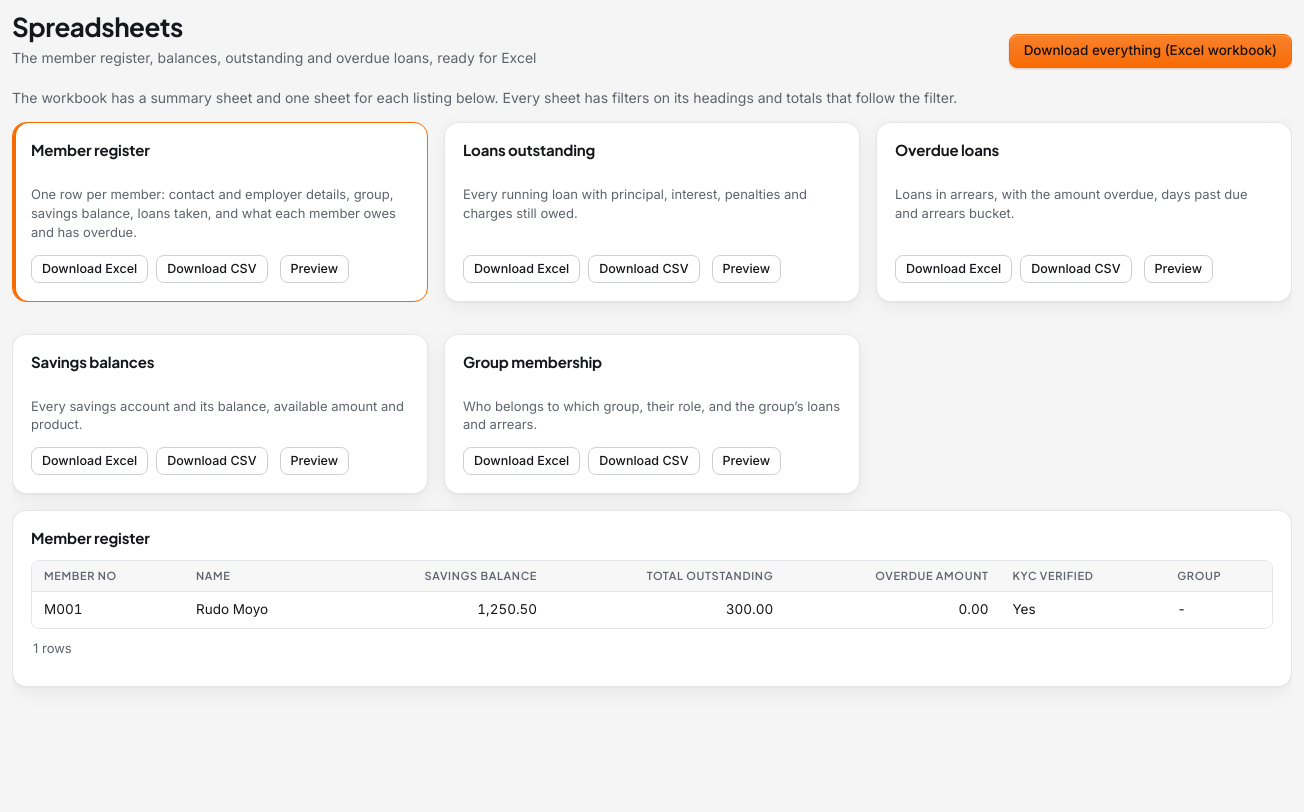
Test: Spreadsheets › says why a download failed instead of failing silently
The image size is (1304, 812).
Click the button "Download everything (Excel workbook)". click: coordinates (1150, 51)
box: [1009, 34, 1292, 68]
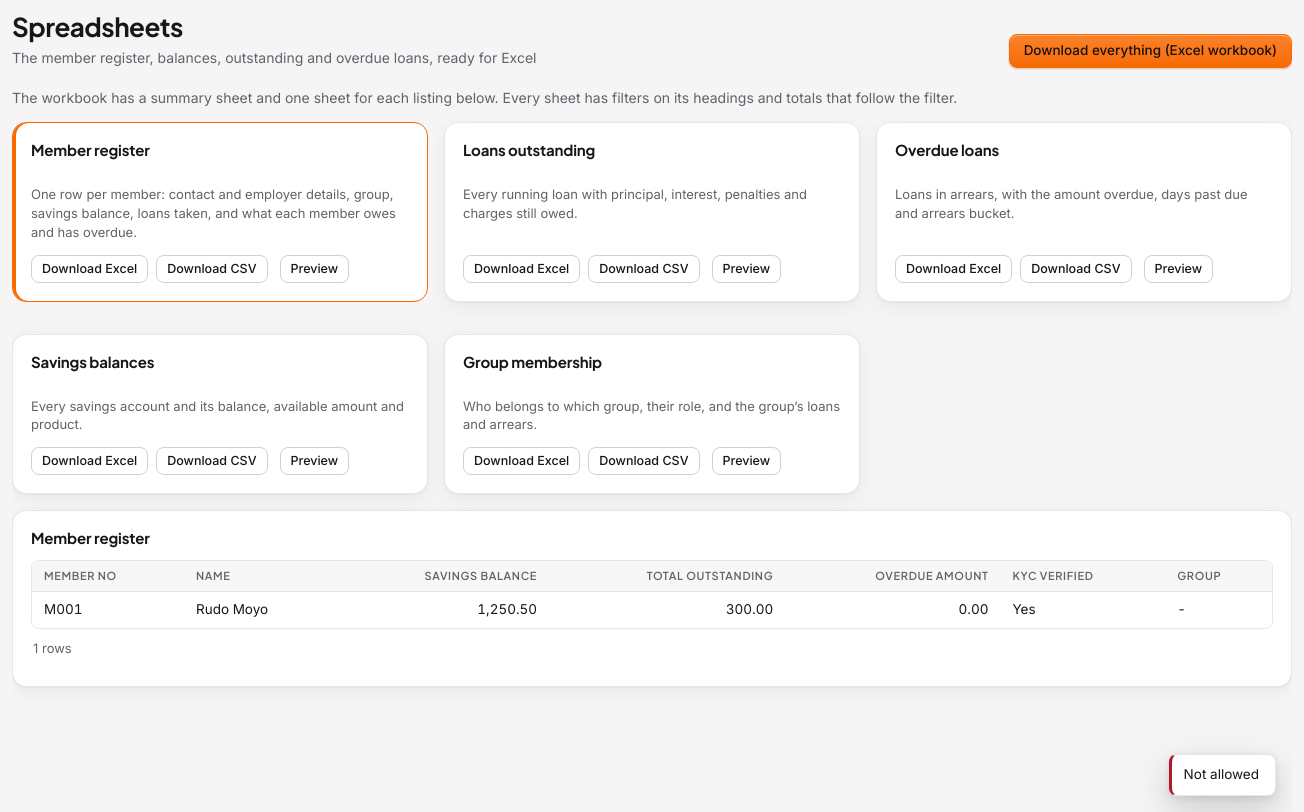
Now the text "Not allowed" is shown, box [1169, 754, 1276, 796]
